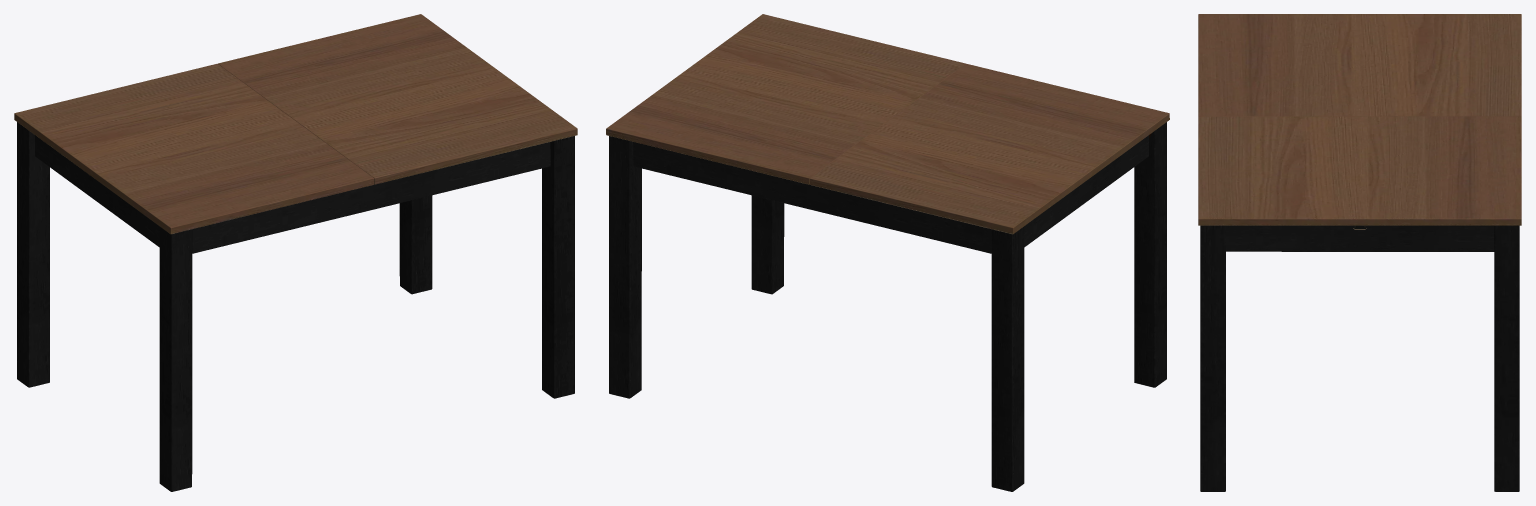
3 views of the same model, side by side, from view 1: azimuth 30°, elevation 25°; view 2: azimuth 150°, elevation 25°; view 3: azimuth 270°, elevation 25° (orthographic). The views are drawn at different scales.
Visible parts, largest first — view 1: 80600791_extendable_table:5, 80600791_extendable_table:3, 80600791_extendable_table:4; view 2: 80600791_extendable_table:5, 80600791_extendable_table:3, 80600791_extendable_table:4; view 3: 80600791_extendable_table:4, 80600791_extendable_table:3, 80600791_extendable_table:5.
Part boxes in pixels (<box>): 80600791_extendable_table:5: <box>17,122,574,491</box>; 80600791_extendable_table:3: <box>14,63,373,234</box>; 80600791_extendable_table:4: <box>218,14,577,184</box>; 80600791_extendable_table:5: <box>609,122,1166,491</box>; 80600791_extendable_table:3: <box>810,63,1169,234</box>; 80600791_extendable_table:4: <box>606,14,965,184</box>; 80600791_extendable_table:4: <box>1198,116,1521,228</box>; 80600791_extendable_table:3: <box>1198,14,1521,116</box>; 80600791_extendable_table:5: <box>1200,225,1519,491</box>.
Bounding box in the file's own units: 1.2 × 0.7502 × 0.8.
5 materials, 5 textured.
